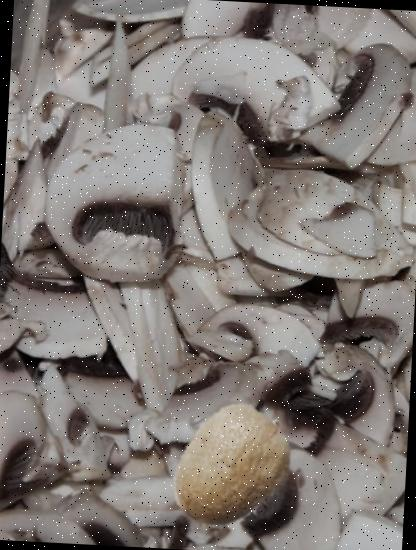Kiwi: (164, 398, 302, 535)
